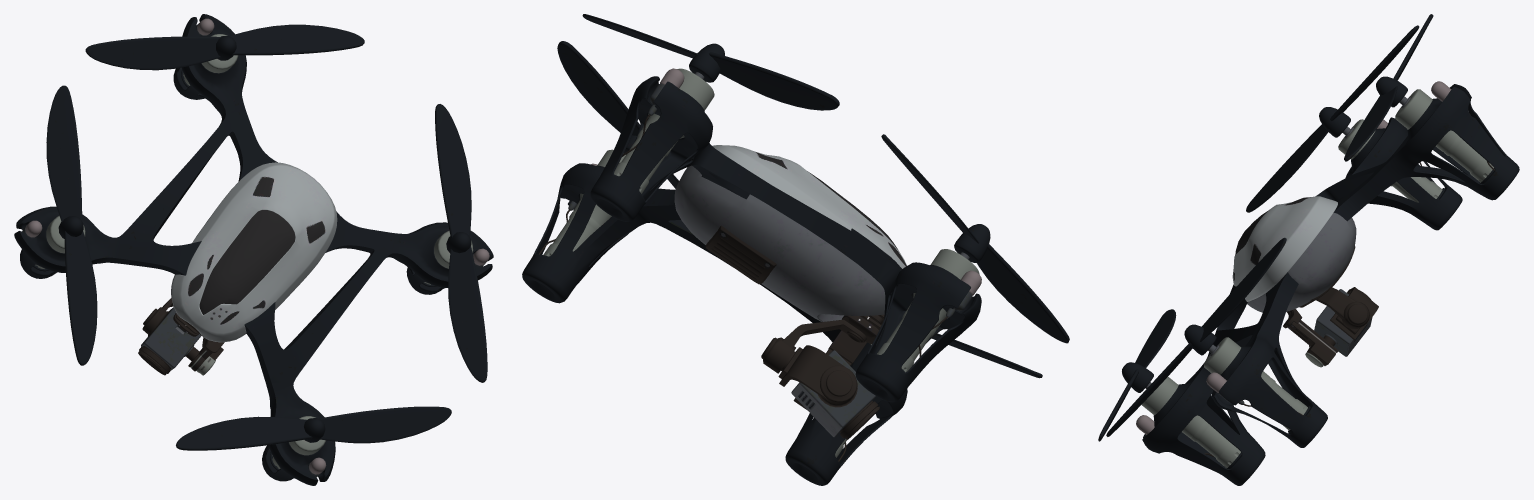
File: drone3.fbx
3 views of the same model, side by side, from view 1: azimuth 30°, elevation 25°; view 2: azimuth 150°, elevation 25°; view 3: azimuth 270°, elevation 25° (orthographic). The views are drawn at different scales.
Visible parts, largest first — view 1: node_id5; view 2: node_id5; view 3: node_id5.
Part boxes in pixels (<box>): node_id5: <box>14,14,493,485</box>; node_id5: <box>522,14,1069,485</box>; node_id5: <box>1098,14,1519,485</box>.
Bounding box in the file's own units: 0.4599 × 0.4298 × 0.3929.
Materials: 1 (1 with a texture image).
